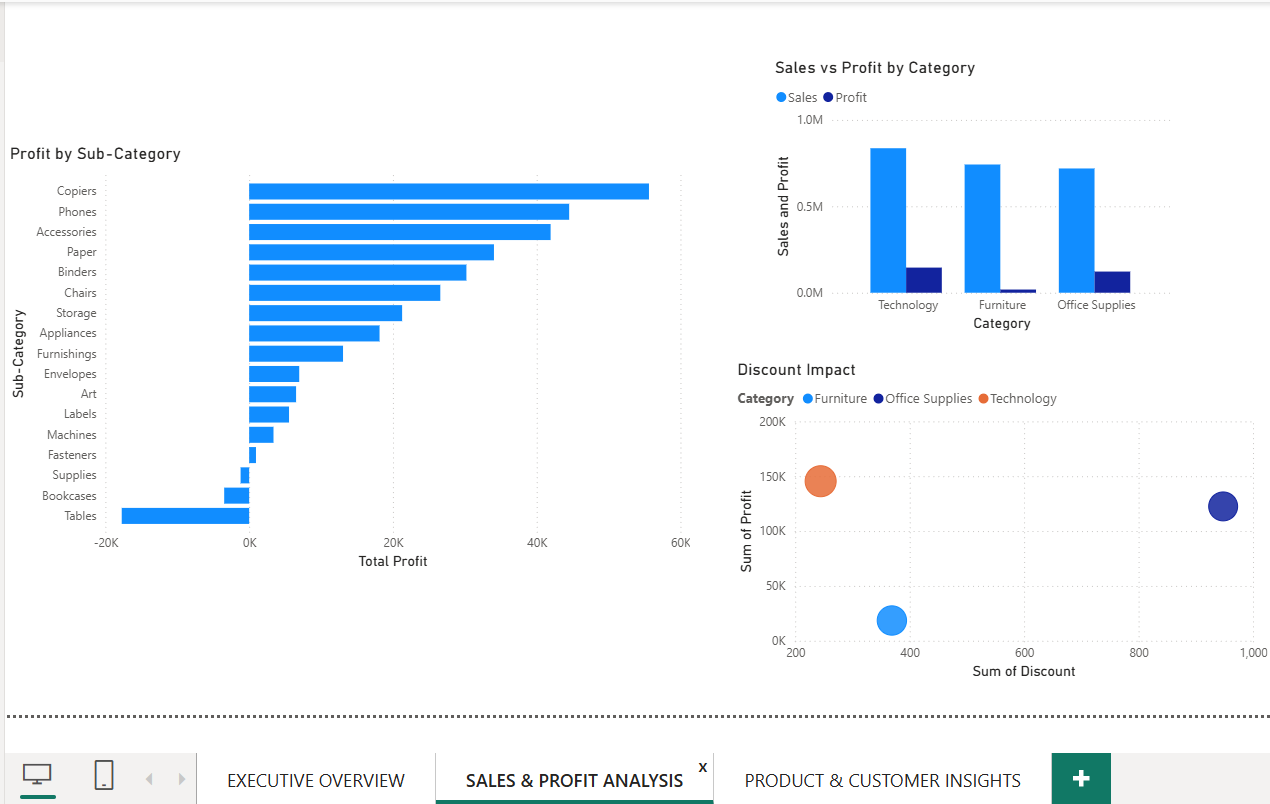

What the dashboard file says about the page in this screenshot:
{"tool":"powerbi","page":{"name":"SALES & PROFIT ANALYSIS","canvas":[1280,720],"ordinal":1},"visuals":[{"type":"clusteredColumnChart","title":"Sales vs Profit by Category","fields":{"Category":["Sample - Superstore.Category"],"Y":["Sum(Sample - Superstore.Sales)","Sum(Sample - Superstore.Profit)"]},"box":[772.2,56,410.3,280.1],"z":0},{"type":"barChart","title":"Profit by Sub-Category","fields":{"Category":["Sample - Superstore.Sub-Category"],"Y":["Sample - Superstore.Total Profit"]},"box":[0,142.3,696.5,434.6],"z":1000},{"type":"scatterChart","title":"Discount Impact","fields":{"X":["Sum(Sample - Superstore.Discount)"],"Y":["Sum(Sample - Superstore.Profit)"],"Size":["Sum(Sample - Superstore.Sales)"],"Series":["Sample - Superstore.Category"]},"box":[734.4,360.4,545.1,327.1],"z":2000}]}

Visuals, with their boxes on the page's 1280x720 design canvas (x1, y1, x2, y2). These are canvas units, not pixel positions in the 1270x804 screenshot, which may show the page scaled, cropped or inside an application window:
"Sales vs Profit by Category" clusteredColumnChart: crop(772, 56, 1182, 336)
"Profit by Sub-Category" barChart: crop(0, 142, 696, 577)
"Discount Impact" scatterChart: crop(734, 360, 1280, 688)
